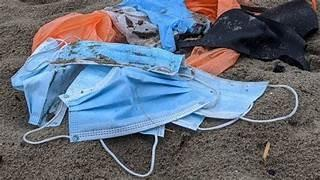Mask: (60, 67, 215, 141), (177, 9, 309, 69), (174, 68, 297, 129), (12, 39, 81, 125), (120, 0, 207, 51), (54, 41, 183, 74), (11, 39, 60, 90), (105, 6, 160, 46), (260, 0, 318, 37)
